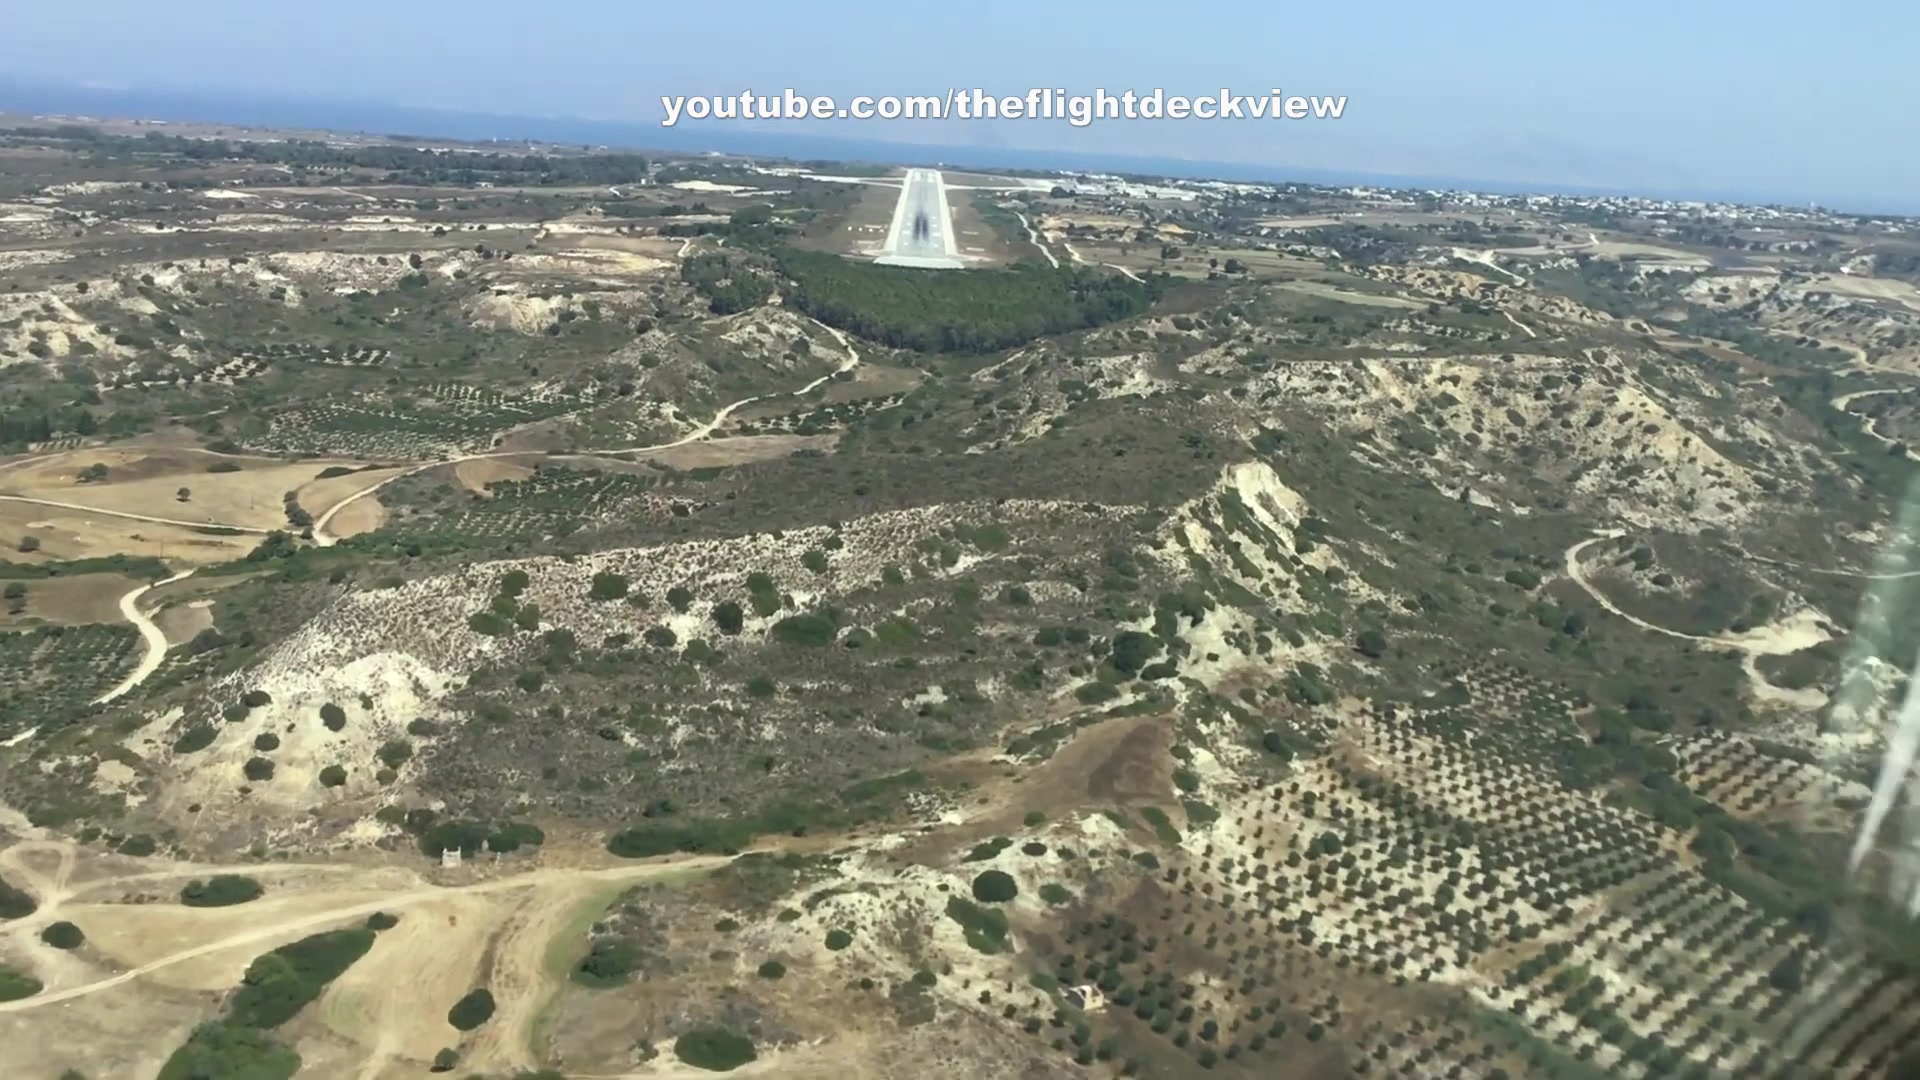runway: (889, 169, 953, 262)
